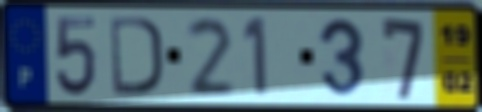1: (239, 15, 273, 99)
2: (183, 15, 238, 98)
3: (313, 15, 371, 100)
5: (53, 14, 99, 97)
7: (380, 14, 426, 101)
D: (107, 13, 166, 98)
